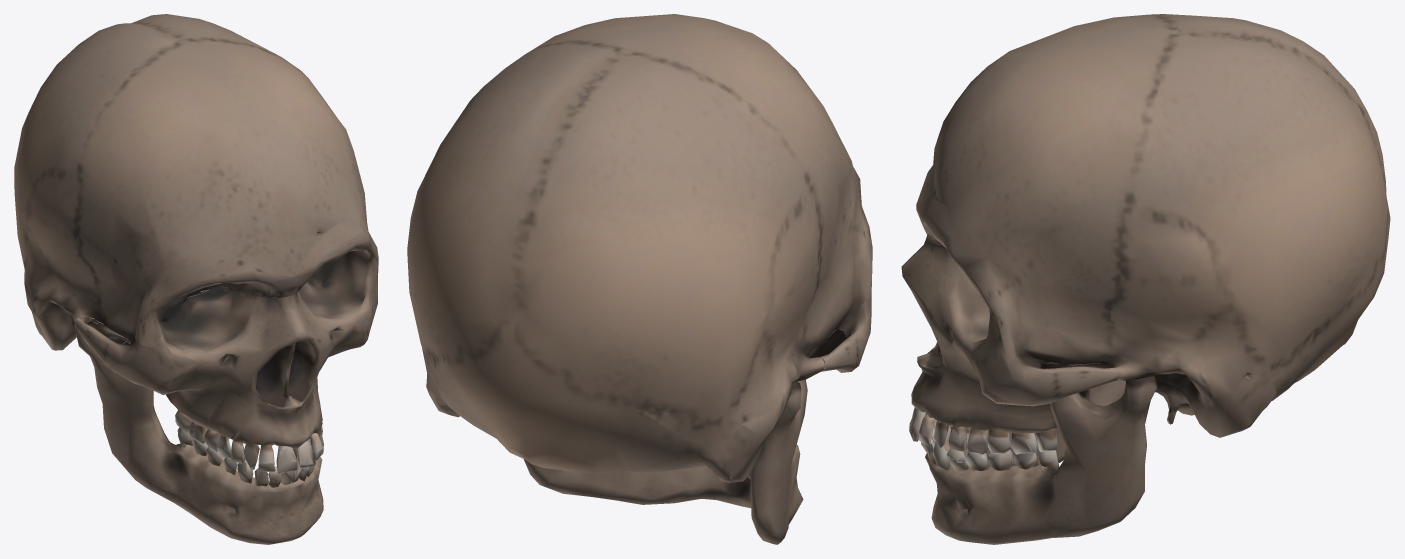
File: skull_para_caveira.glb
3 renders of one model, left to right at view 1: azimuth 30°, elevation 25°; view 2: azimuth 150°, elevation 25°; view 3: azimuth 270°, elevation 25°, orthographic. The views are drawn at different scales.
Parts seen in each view (by area): view 1: Object_2; view 2: Object_2; view 3: Object_2.
Part boxes in pixels (box(x1,y1,x2,y2)): Object_2: box(14, 14, 378, 544); Object_2: box(407, 14, 872, 544); Object_2: box(901, 14, 1390, 544).
Size of the model in its own units: 1.34 by 2 by 1.78.
Materials: 1 (1 with a texture image).
